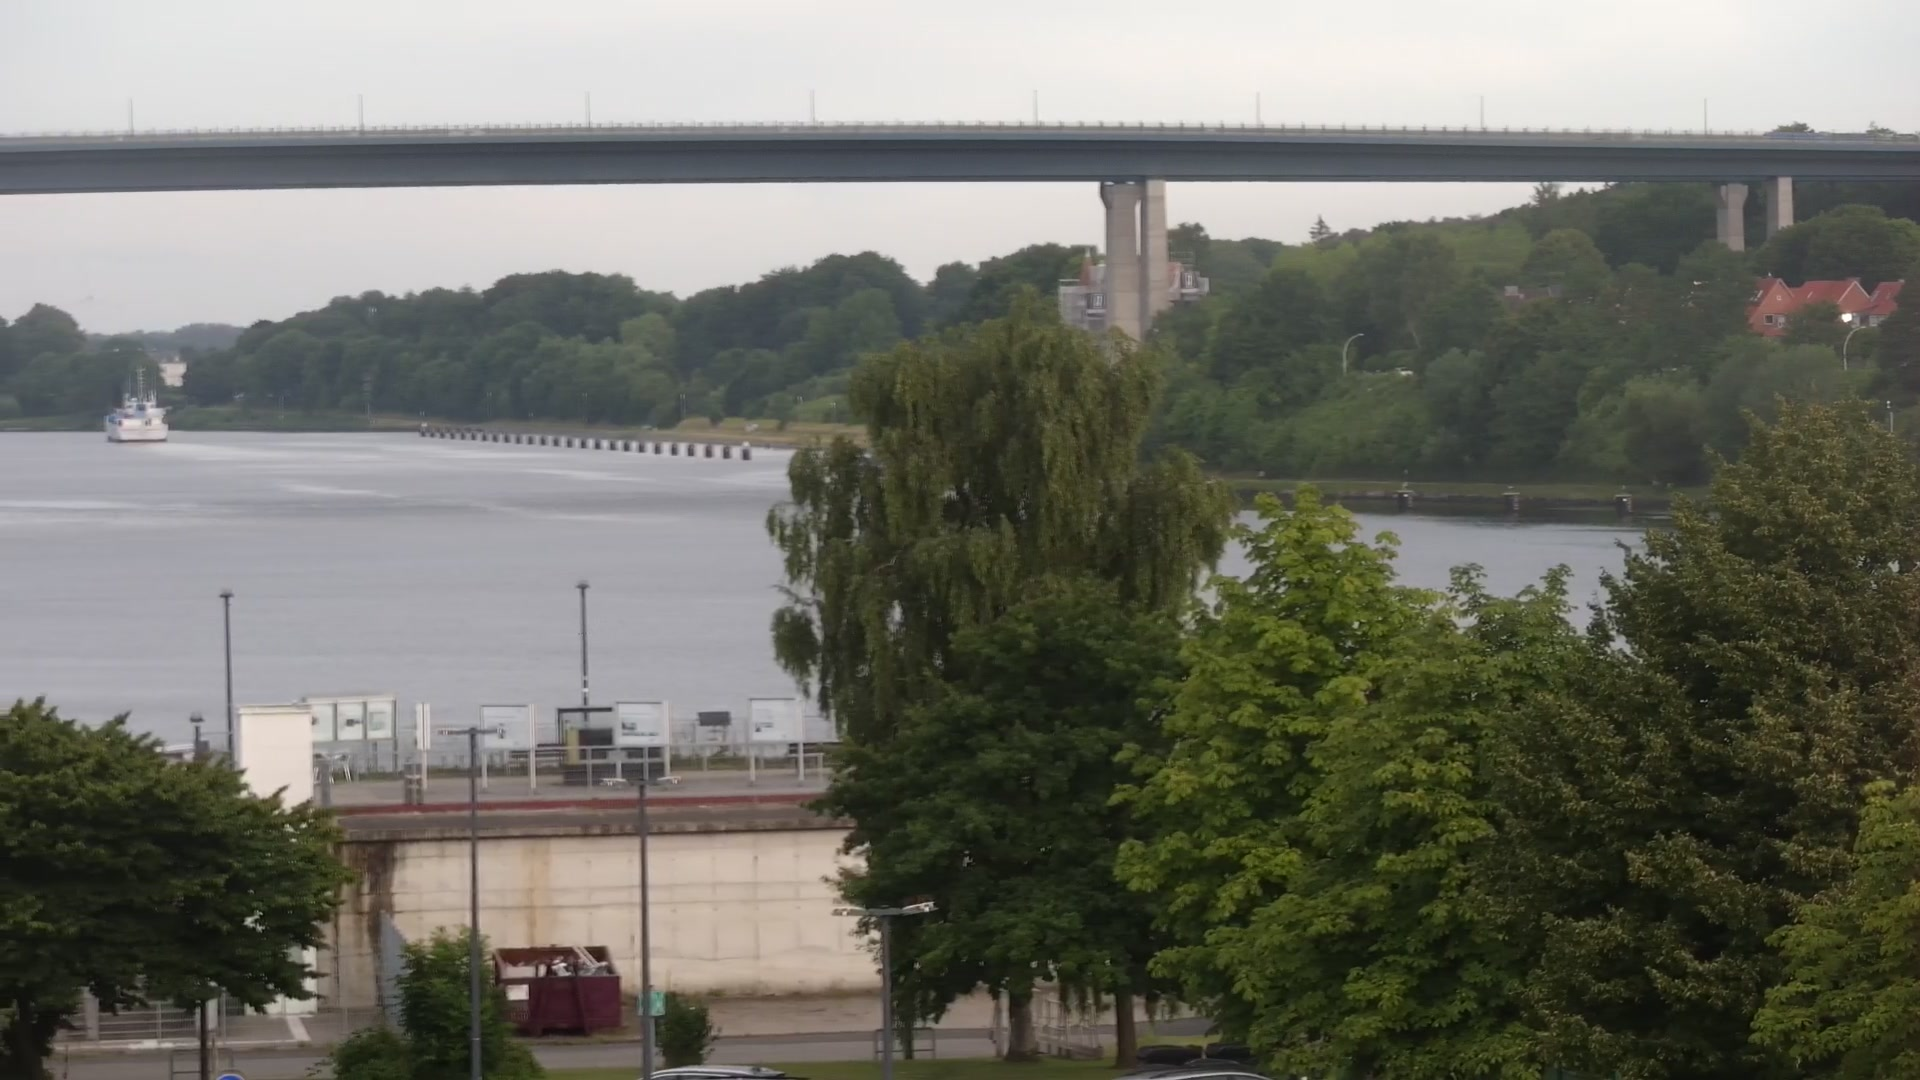sea: (104, 363, 171, 440)
